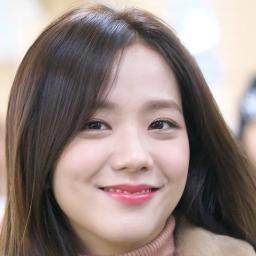face: (60, 56, 182, 226)
